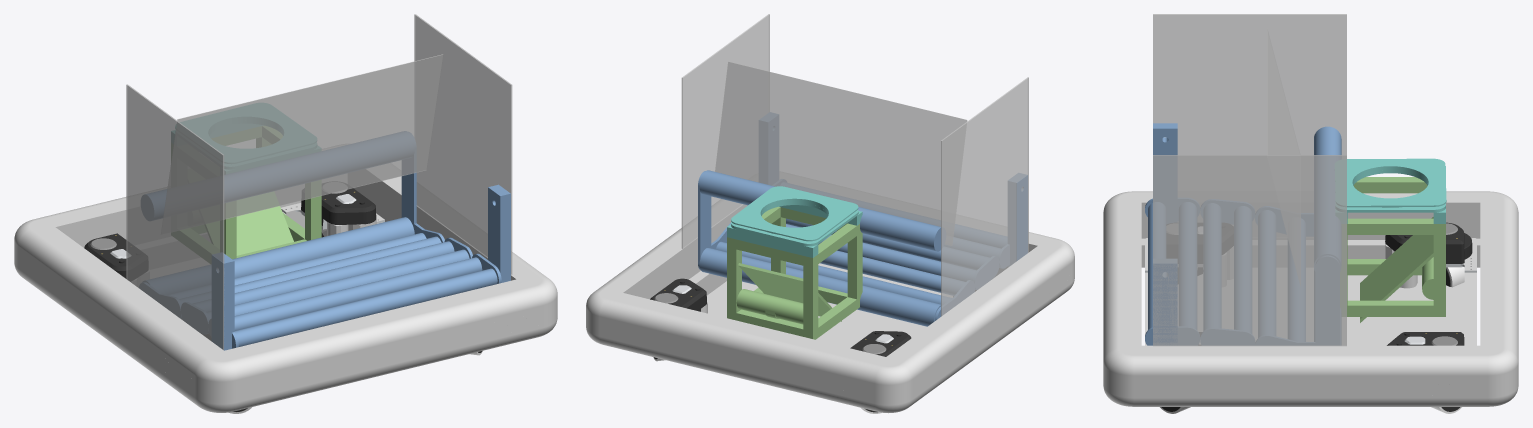
3 renders of one model, left to right at view 1: azimuth 30°, elevation 25°; view 2: azimuth 150°, elevation 25°; view 3: azimuth 270°, elevation 25°, orthographic. The views are drawn at different scales.
Parts seen in each view (by area): view 1: Part 1 (×3), id9, Horizontal Roller (×5), Configurable Ball Tunnel, 2x1 (×2), Turret Bottom, Turret Top; view 2: Part 1 (×3), id9, Horizontal Roller (×5), Configurable Ball Tunnel, Turret Bottom, 2x1 (×2), Turret Top; view 3: Part 1 (×3), id9, Horizontal Roller (×4), Configurable Ball Tunnel, 2x1 (×2), Turret Bottom, Turret Top.
Part boxes in pixels (left/top/right/bottom): Part 1 (×3): left=126, top=14, right=512, bottom=349; id9: left=14, top=144, right=557, bottom=413; Horizontal Roller (×5): left=139, top=131, right=501, bottom=348; Configurable Ball Tunnel: left=171, top=126, right=321, bottom=263; 2x1 (×2): left=211, top=184, right=510, bottom=350; Turret Bottom: left=175, top=103, right=316, bottom=163; Turret Top: left=171, top=121, right=320, bottom=173; Part 1 (×3): left=681, top=14, right=1028, bottom=316; id9: left=586, top=172, right=1074, bottom=413; Horizontal Roller (×5): left=698, top=170, right=1009, bottom=326; Configurable Ball Tunnel: left=727, top=206, right=862, bottom=339; Turret Bottom: left=731, top=186, right=858, bottom=241; 2x1 (×2): left=759, top=112, right=1027, bottom=266; Turret Top: left=727, top=202, right=862, bottom=257; Part 1 (×3): left=1153, top=14, right=1346, bottom=346; id9: left=1103, top=191, right=1518, bottom=413; Horizontal Roller (×4): left=1145, top=126, right=1341, bottom=345; Configurable Ball Tunnel: left=1340, top=177, right=1445, bottom=322; 2x1 (×2): left=1153, top=123, right=1177, bottom=345; Turret Bottom: left=1335, top=158, right=1446, bottom=207; Turret Top: left=1336, top=166, right=1445, bottom=223.
Bounding box in the file's own units: 0.8572 × 0.6121 × 0.8572.
